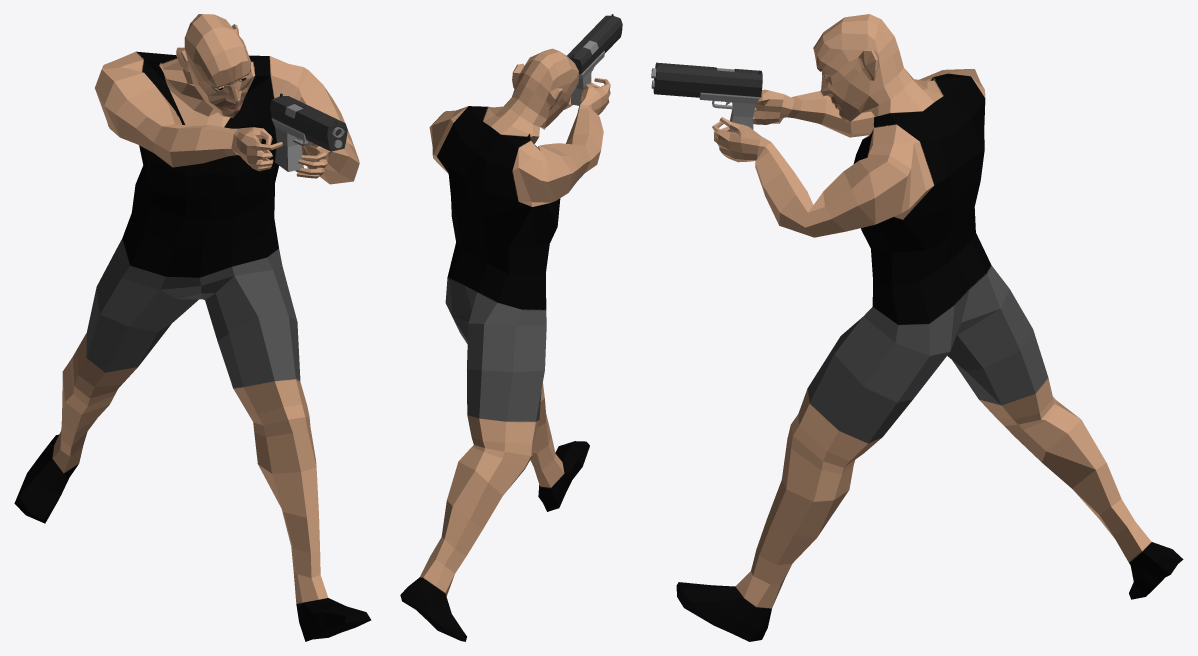
The model's file is PlayerWalk(5).obj.
3 renders of one model, left to right at view 1: azimuth 30°, elevation 25°; view 2: azimuth 150°, elevation 25°; view 3: azimuth 270°, elevation 25°, orthographic. The views are drawn at different scales.
Visible parts, largest first — view 1: Plane002, Box003; view 2: Plane002, Box003; view 3: Plane002, Box003.
Boxes of the visible parts, x1=… form: Plane002: x1=14, y1=14, x2=371, y2=641; Box003: x1=270, y1=93, x2=347, y2=171; Plane002: x1=400, y1=48, x2=610, y2=641; Box003: x1=567, y1=14, x2=622, y2=105; Plane002: x1=676, y1=14, x2=1183, y2=641; Box003: x1=651, y1=62, x2=762, y2=131.
Size of the model in its own units: 582 by 1686 by 1357.
